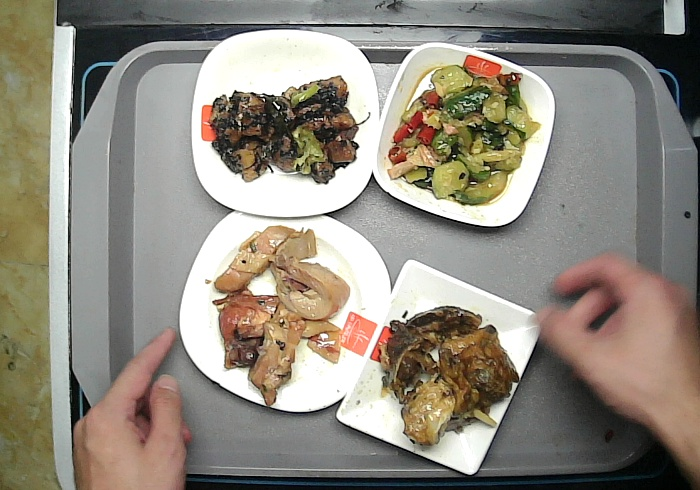SHKJ-Bai_Se_Cai_Die: (190, 25, 385, 220)
SHKJ-Bai_Se_Si_Fang_Cai_Die: (177, 203, 394, 415)
SHKJ-Bai_Se_Xiao_Fang_Die: (373, 41, 557, 229)
SHKJ-Si_Fang_Min: (334, 257, 547, 480)
